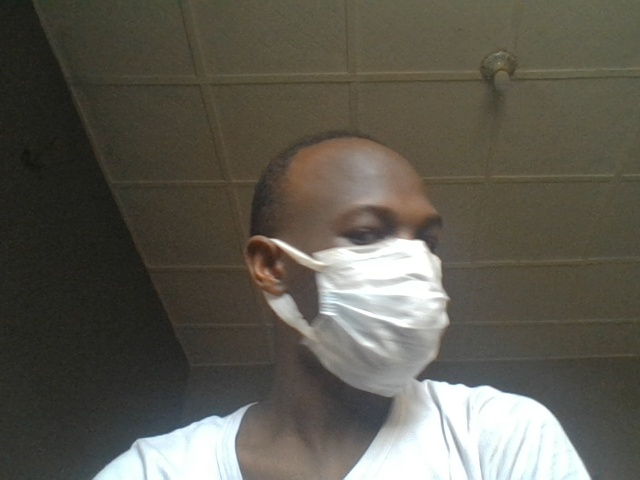Mask: (237, 236, 469, 400)
